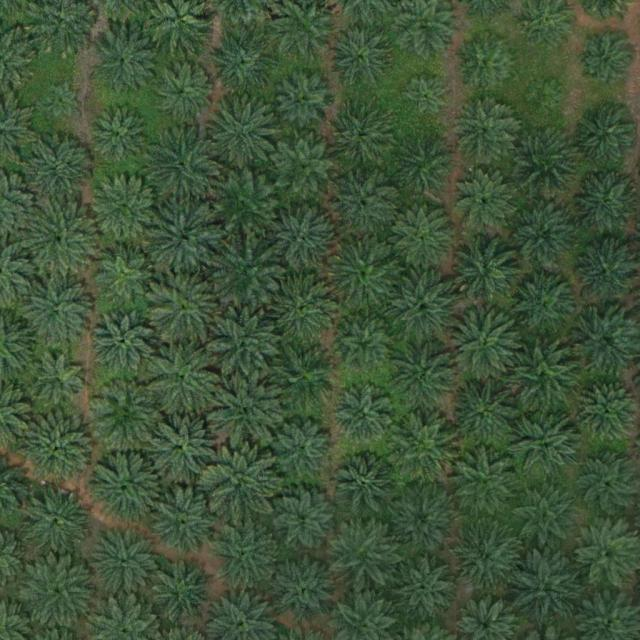Healthy: (207, 167, 278, 238), (92, 451, 163, 522), (390, 272, 461, 343), (449, 310, 520, 381), (451, 450, 522, 521), (509, 484, 580, 555), (510, 553, 581, 624), (510, 125, 580, 196), (329, 170, 399, 241), (267, 205, 337, 276), (207, 25, 277, 96), (209, 95, 279, 166), (149, 127, 219, 198), (90, 30, 160, 101), (26, 204, 96, 275), (24, 414, 94, 485), (149, 274, 220, 344), (212, 236, 282, 307), (209, 310, 279, 381), (206, 449, 277, 519), (272, 273, 342, 344), (270, 344, 340, 415), (390, 340, 460, 411), (391, 418, 461, 489), (388, 485, 458, 556), (451, 235, 521, 306), (450, 379, 521, 449), (507, 341, 577, 412), (512, 412, 582, 483), (453, 525, 523, 596), (327, 519, 397, 590), (152, 487, 222, 558), (90, 527, 160, 598), (509, 202, 579, 272), (149, 203, 219, 273), (91, 175, 161, 245), (24, 134, 94, 204), (22, 278, 92, 348), (92, 380, 162, 450), (151, 344, 221, 414), (149, 410, 219, 480), (210, 377, 280, 447), (330, 235, 400, 305), (507, 269, 577, 339), (210, 522, 280, 592), (22, 487, 92, 557), (25, 558, 95, 628), (457, 32, 520, 95), (452, 99, 515, 162), (452, 169, 515, 232), (394, 134, 457, 197), (330, 24, 393, 87), (274, 72, 337, 135), (274, 136, 337, 199), (272, 418, 335, 481), (393, 207, 455, 270), (329, 107, 391, 170), (152, 60, 214, 123), (29, 352, 91, 415), (94, 241, 156, 304), (91, 310, 153, 373), (274, 492, 336, 555), (336, 456, 398, 519), (575, 241, 637, 304), (577, 380, 639, 443), (395, 559, 457, 622), (274, 557, 336, 620), (155, 561, 217, 624), (88, 104, 150, 166), (333, 385, 395, 447), (578, 34, 633, 89), (337, 321, 392, 376)
Small: (401, 76, 448, 123), (524, 78, 563, 117), (42, 81, 81, 120)
